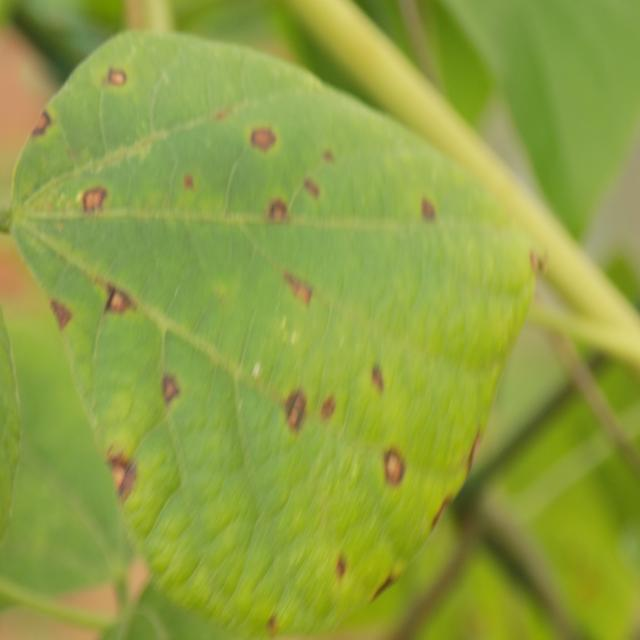Dolicos bean_cercospora leaf spot: (16, 32, 534, 640)
